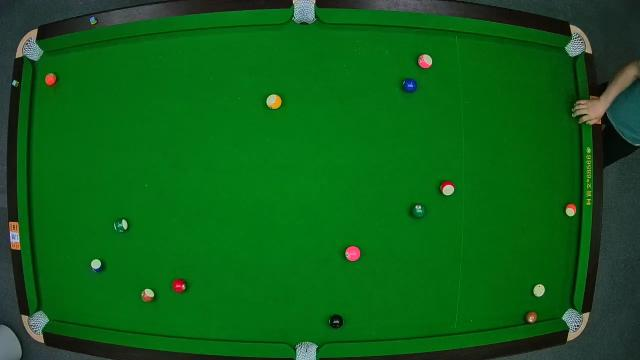bag1: (20, 40, 40, 61)
bag2: (292, 1, 316, 25)
bag3: (566, 35, 588, 55)
bag4: (28, 311, 48, 333)
bag5: (293, 340, 319, 360)
bag6: (562, 308, 582, 332)
ball0: (532, 283, 546, 297)
ball10: (90, 259, 104, 273)
ball11: (441, 181, 455, 197)
ball12: (419, 54, 433, 70)
ball13: (564, 203, 578, 217)
ball14: (114, 218, 130, 234)
ball15: (138, 288, 154, 302)
ball2: (402, 78, 416, 92)
ball3: (172, 278, 188, 294)
ball4: (346, 245, 362, 261)
ball5: (45, 72, 57, 86)
ball6: (410, 204, 424, 220)
ball7: (524, 311, 538, 325)
ball8: (328, 314, 344, 329)
ball9: (268, 94, 282, 110)
